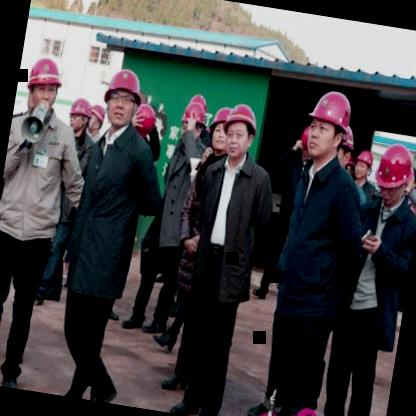helmet: (302, 86, 356, 162), (369, 138, 416, 214), (98, 61, 145, 136), (220, 96, 262, 171), (22, 52, 68, 118), (174, 98, 210, 146), (329, 122, 358, 177), (205, 104, 235, 156), (63, 93, 96, 138), (350, 146, 376, 187), (85, 100, 111, 140), (296, 120, 317, 166), (412, 152, 416, 186)
